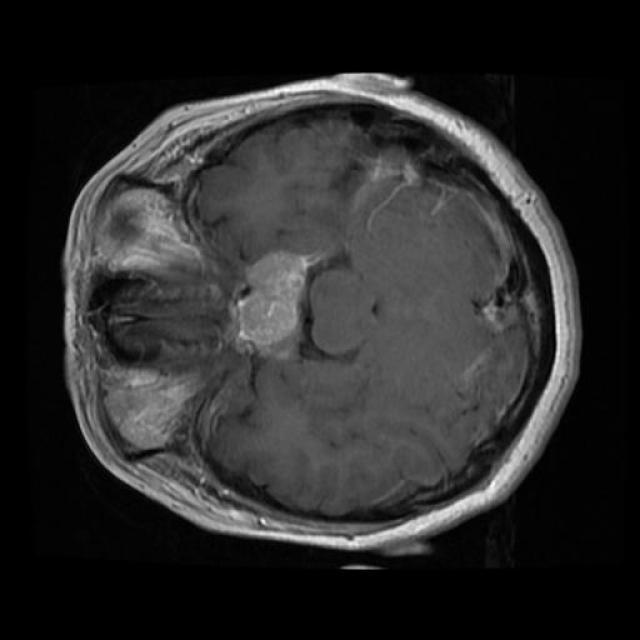Pituitary: (237, 251, 311, 356)
